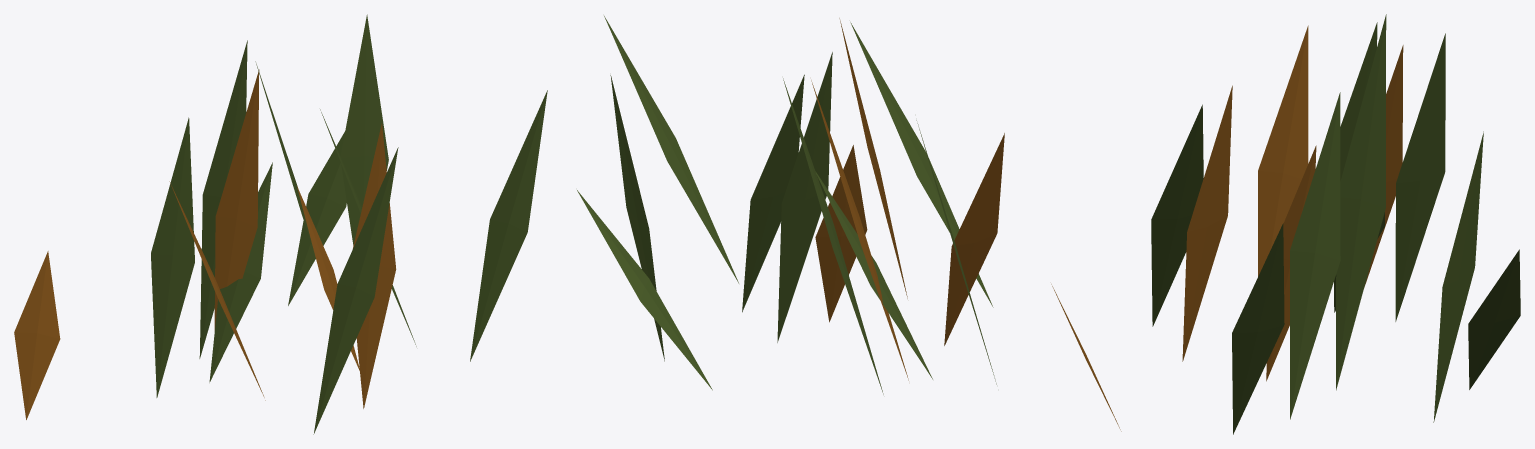
Rendered from Plant_ShortGrass_01.fbx.
3 views of the same model, side by side, from view 1: azimuth 30°, elevation 25°; view 2: azimuth 150°, elevation 25°; view 3: azimuth 270°, elevation 25° (orthographic). The views are drawn at different scales.
Parts seen in each view (by area): view 1: Plant_ShortGrass_01_Mesh; view 2: Plant_ShortGrass_01_Mesh; view 3: Plant_ShortGrass_01_Mesh.
Part boxes in pixels (x1=…): Plant_ShortGrass_01_Mesh: x1=14, y1=14, x2=547, y2=434; Plant_ShortGrass_01_Mesh: x1=577, y1=16, x2=1121, y2=431; Plant_ShortGrass_01_Mesh: x1=1151, y1=14, x2=1520, y2=434.
Size of the model in its own units: 0.651 by 0.3707 by 0.3682.
1 material, 1 textured.
